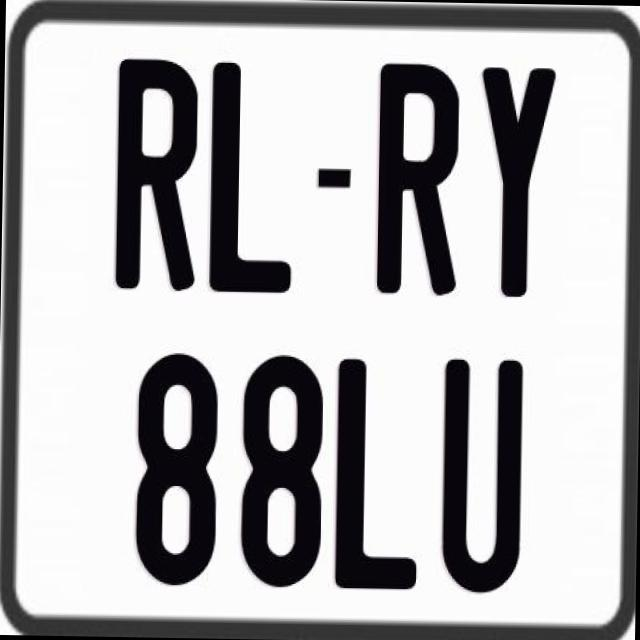8: (132, 351, 222, 588), (235, 352, 321, 590)
L: (206, 57, 299, 288), (332, 357, 418, 587)
R: (112, 59, 200, 292), (372, 58, 460, 290)
U: (441, 358, 526, 598)
Y: (474, 62, 554, 300)
